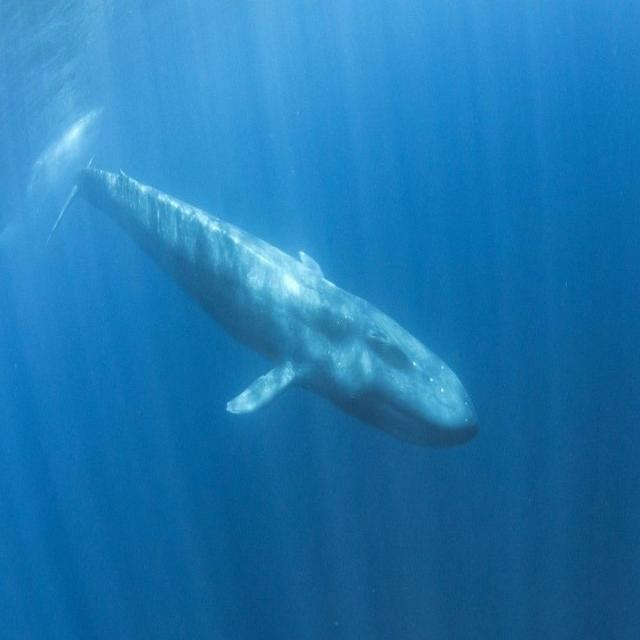blue_whale: (39, 115, 487, 540)
